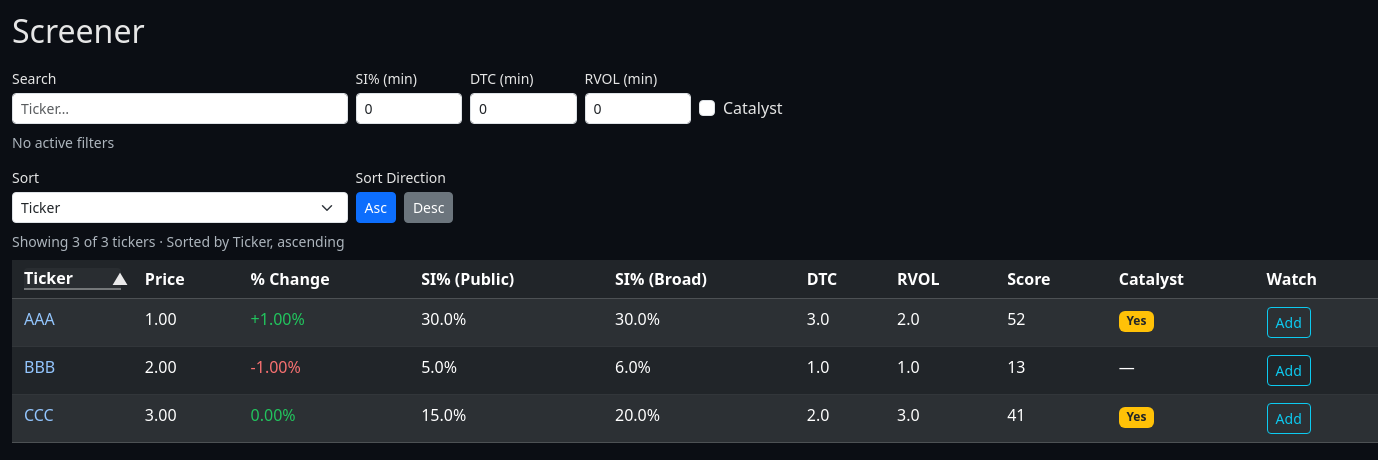
Scenario: ScreenerPage toolbar › adds a chip when a filter is set and syncs it to the URL
Click the checkbox labelled "Catalyst".
click(707, 108)  # box [699, 100, 715, 116]
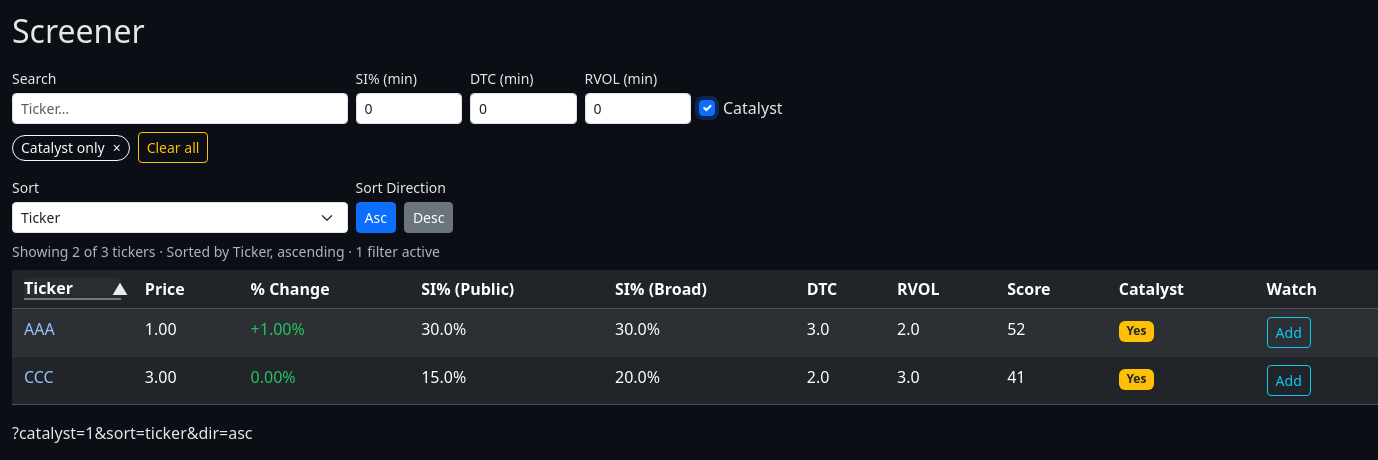
Expected: the button with aria-label "Remove Catalyst filter" is shown, [12, 135, 130, 161]
Expected: the message shows "Showing 2 of 3 tickers", [12, 242, 440, 261]
